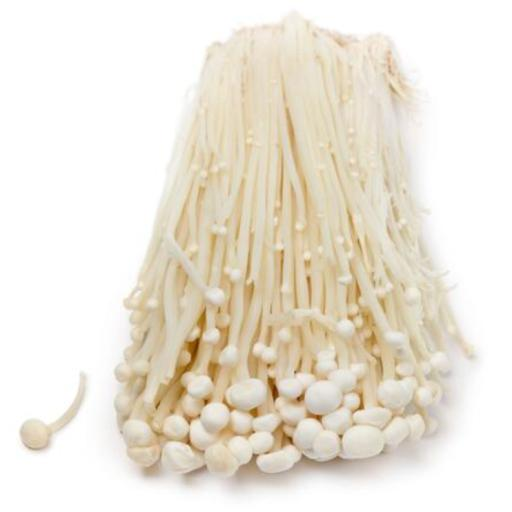Enoki Mushroom: (54, 0, 489, 496), (14, 368, 103, 456)
